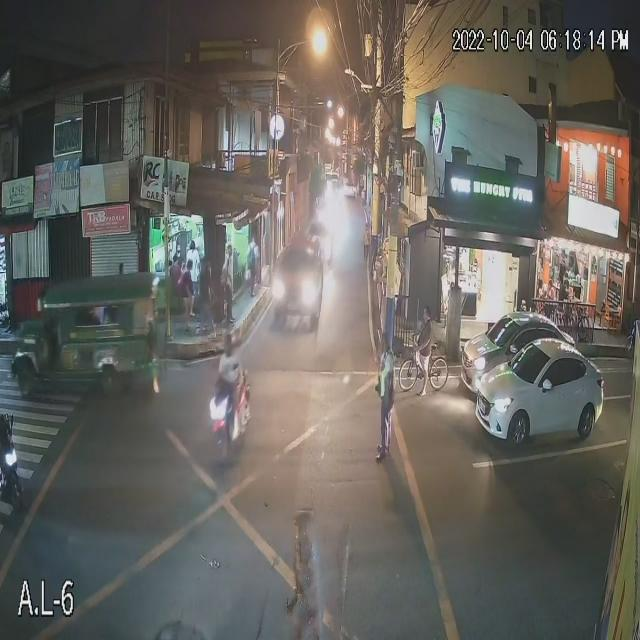helmet: (217, 336, 238, 353)
motorcycle: (0, 416, 32, 507), (208, 392, 259, 443)
rider: (216, 360, 239, 420)
